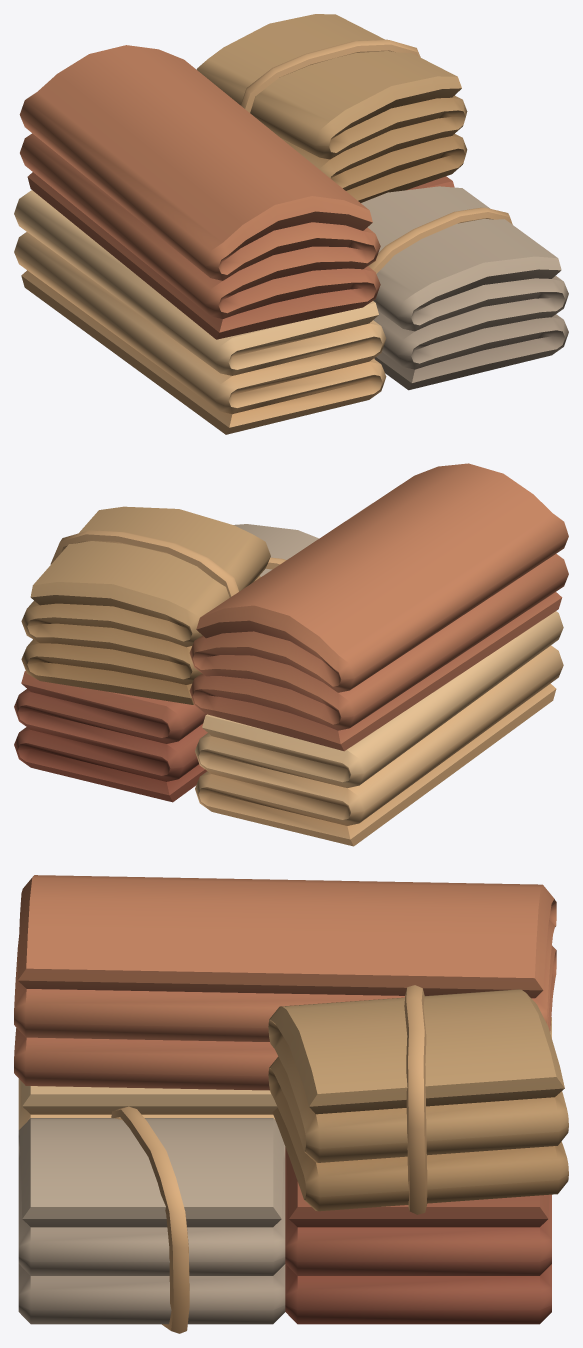
File: Textiles_Stack_Large.glb
3 views of the same model, one above another, from view 1: azimuth 30°, elevation 25°; view 2: azimuth 150°, elevation 25°; view 3: azimuth 270°, elevation 25° (orthographic). The views are drawn at different scales.
Parts seen in each view (by area): view 1: Textiles_Stack_Large; view 2: Textiles_Stack_Large; view 3: Textiles_Stack_Large.
Boxes of the visible parts, box(x1,y1,x2,y2) form: Textiles_Stack_Large: box(14, 14, 568, 434); Textiles_Stack_Large: box(14, 463, 568, 846); Textiles_Stack_Large: box(14, 875, 568, 1333).
Bounding box in the file's own units: 1.64 × 0.9556 × 1.66.
1 material, 1 textured.
